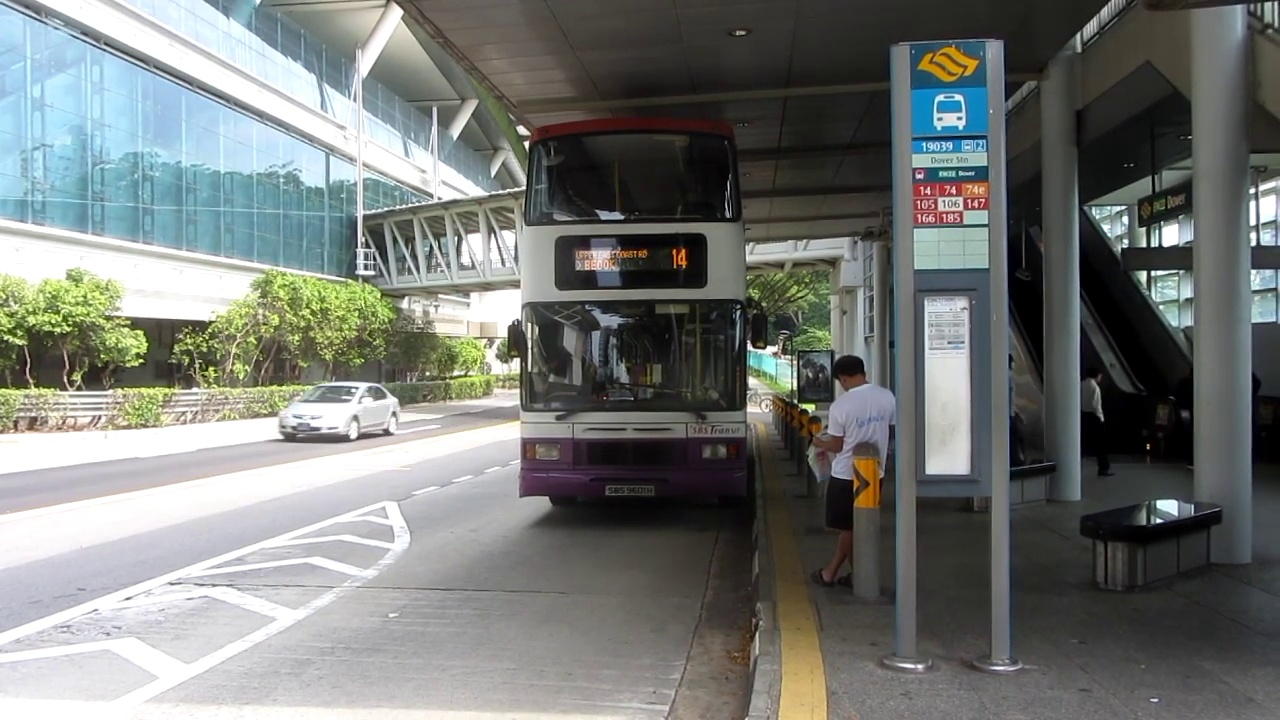bus panel: (570, 246, 691, 273)
